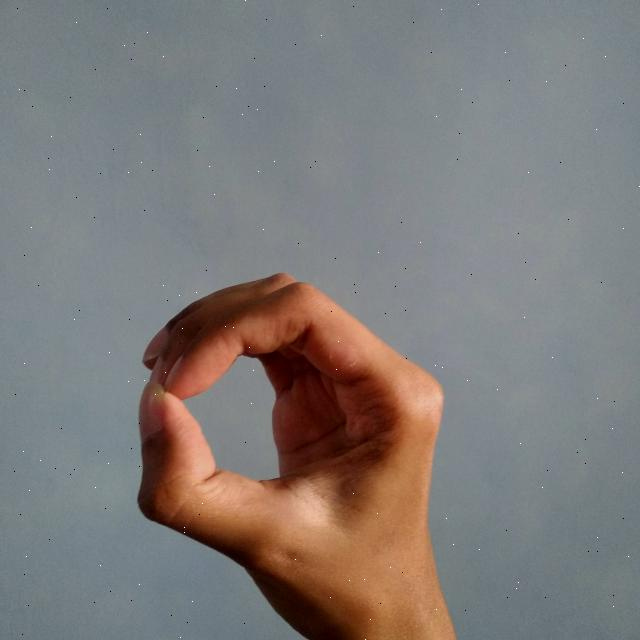O: (128, 269, 469, 640)
